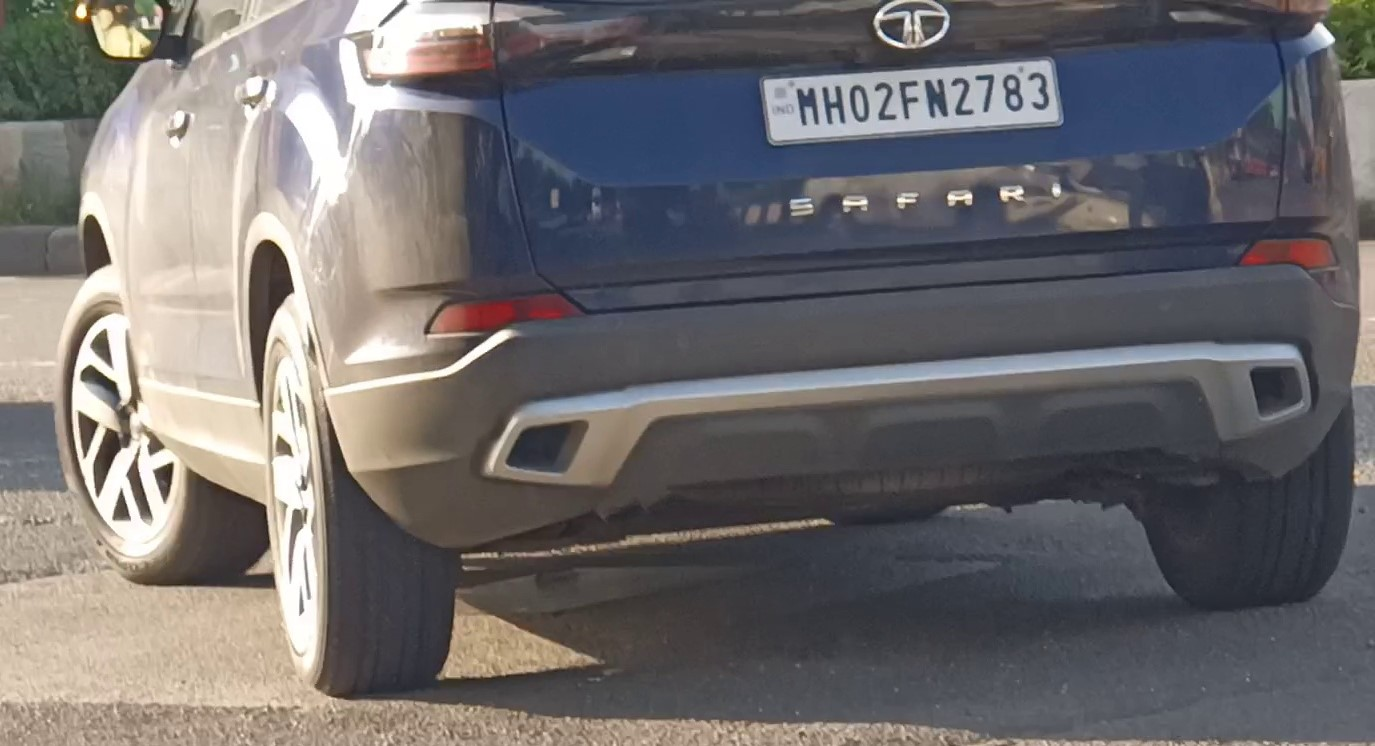MH02FN2783: (757, 57, 1064, 144)
